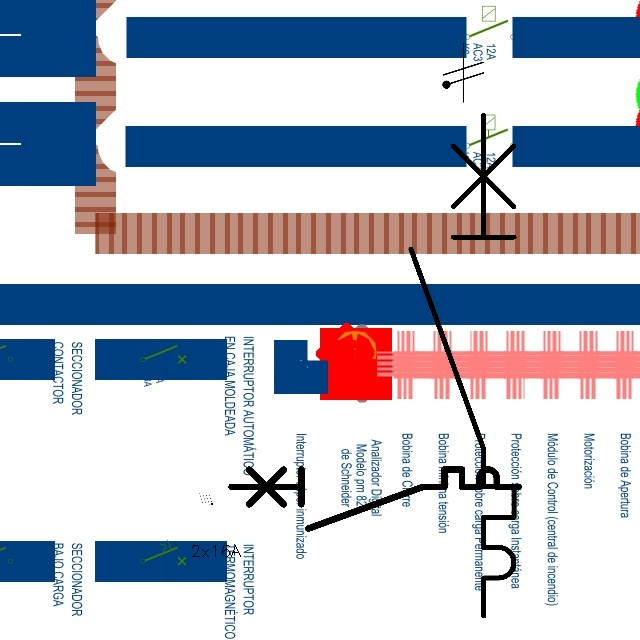interruptor_termomagnetico: (398, 102, 527, 628), (224, 462, 526, 536)
